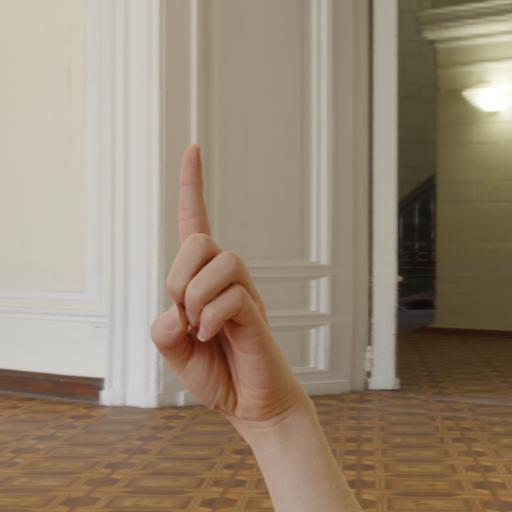nothing: (133, 126, 319, 451)
